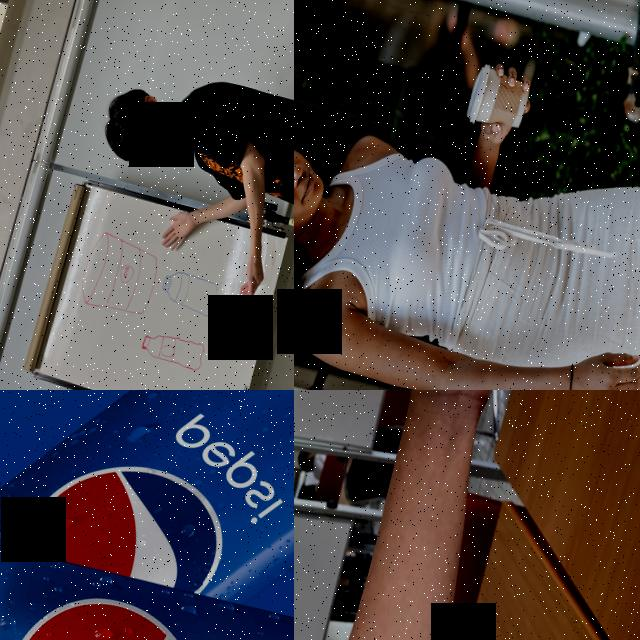can: (0, 525, 294, 640)
cup: (462, 61, 536, 138)
